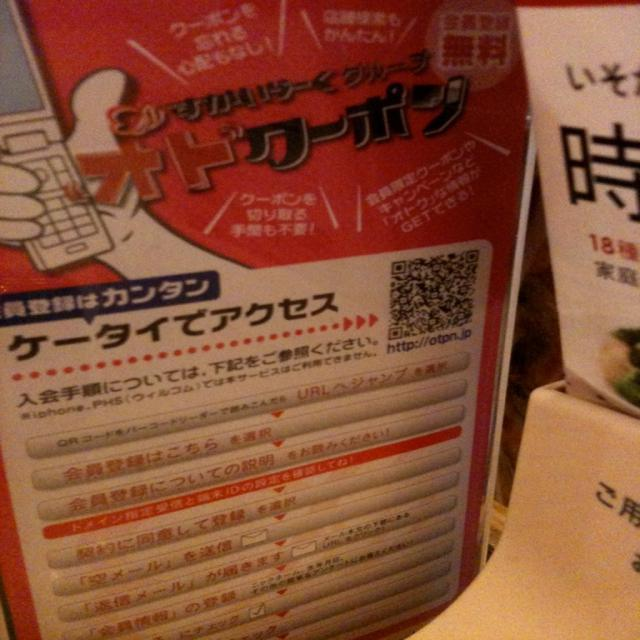qrcode: (389, 250, 480, 342)
